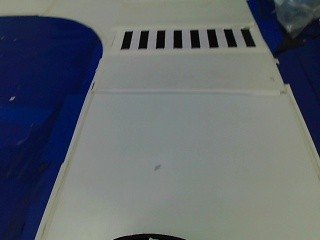crosswalk: (109, 21, 259, 51)
